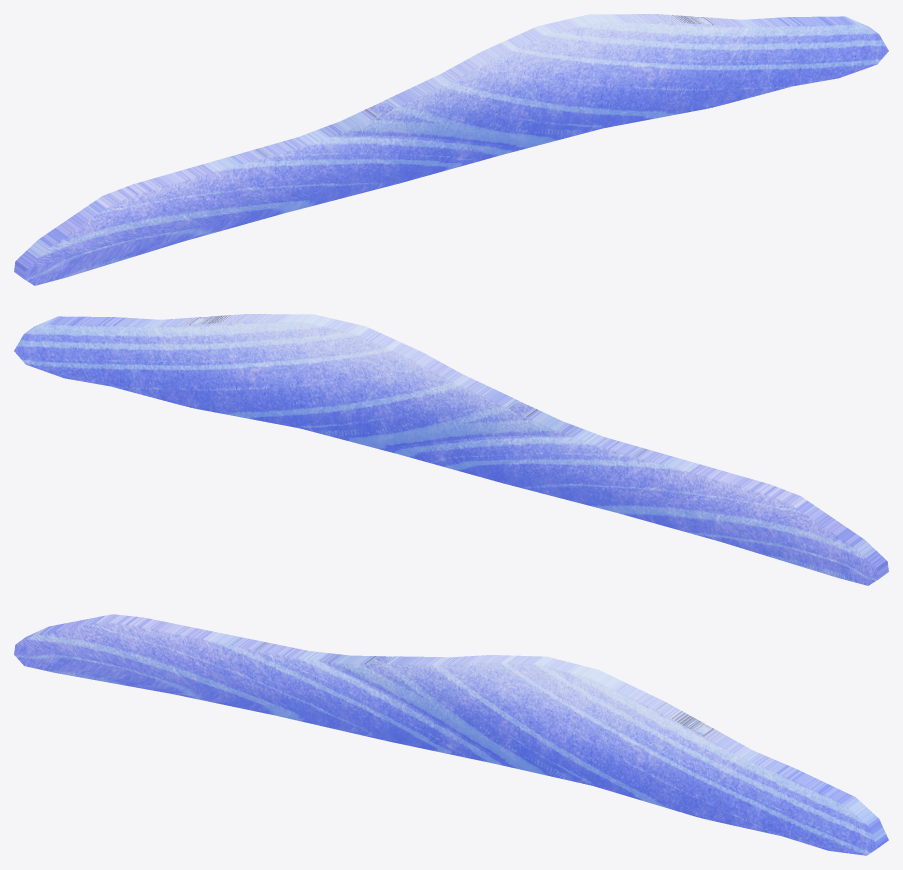
Rendered from snowmound1.fbx.
3 views of the same model, one above another, from view 1: azimuth 30°, elevation 25°; view 2: azimuth 150°, elevation 25°; view 3: azimuth 330°, elevation 25° (orthographic).
Parts seen in each view (by area): view 1: snowmound4; view 2: snowmound4; view 3: snowmound4.
Part boxes in pixels (<box>): snowmound4: <box>14,14,888,285</box>; snowmound4: <box>14,314,888,585</box>; snowmound4: <box>14,614,888,855</box>.
Size of the model in its own units: 445 by 62.42 by 9.37.
